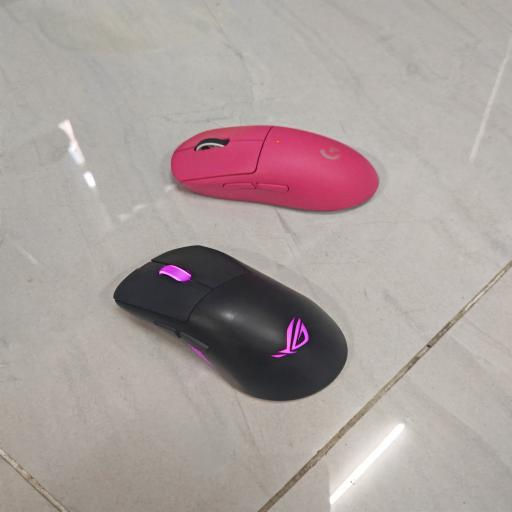mouse: (114, 246, 346, 400), (171, 126, 378, 210)
